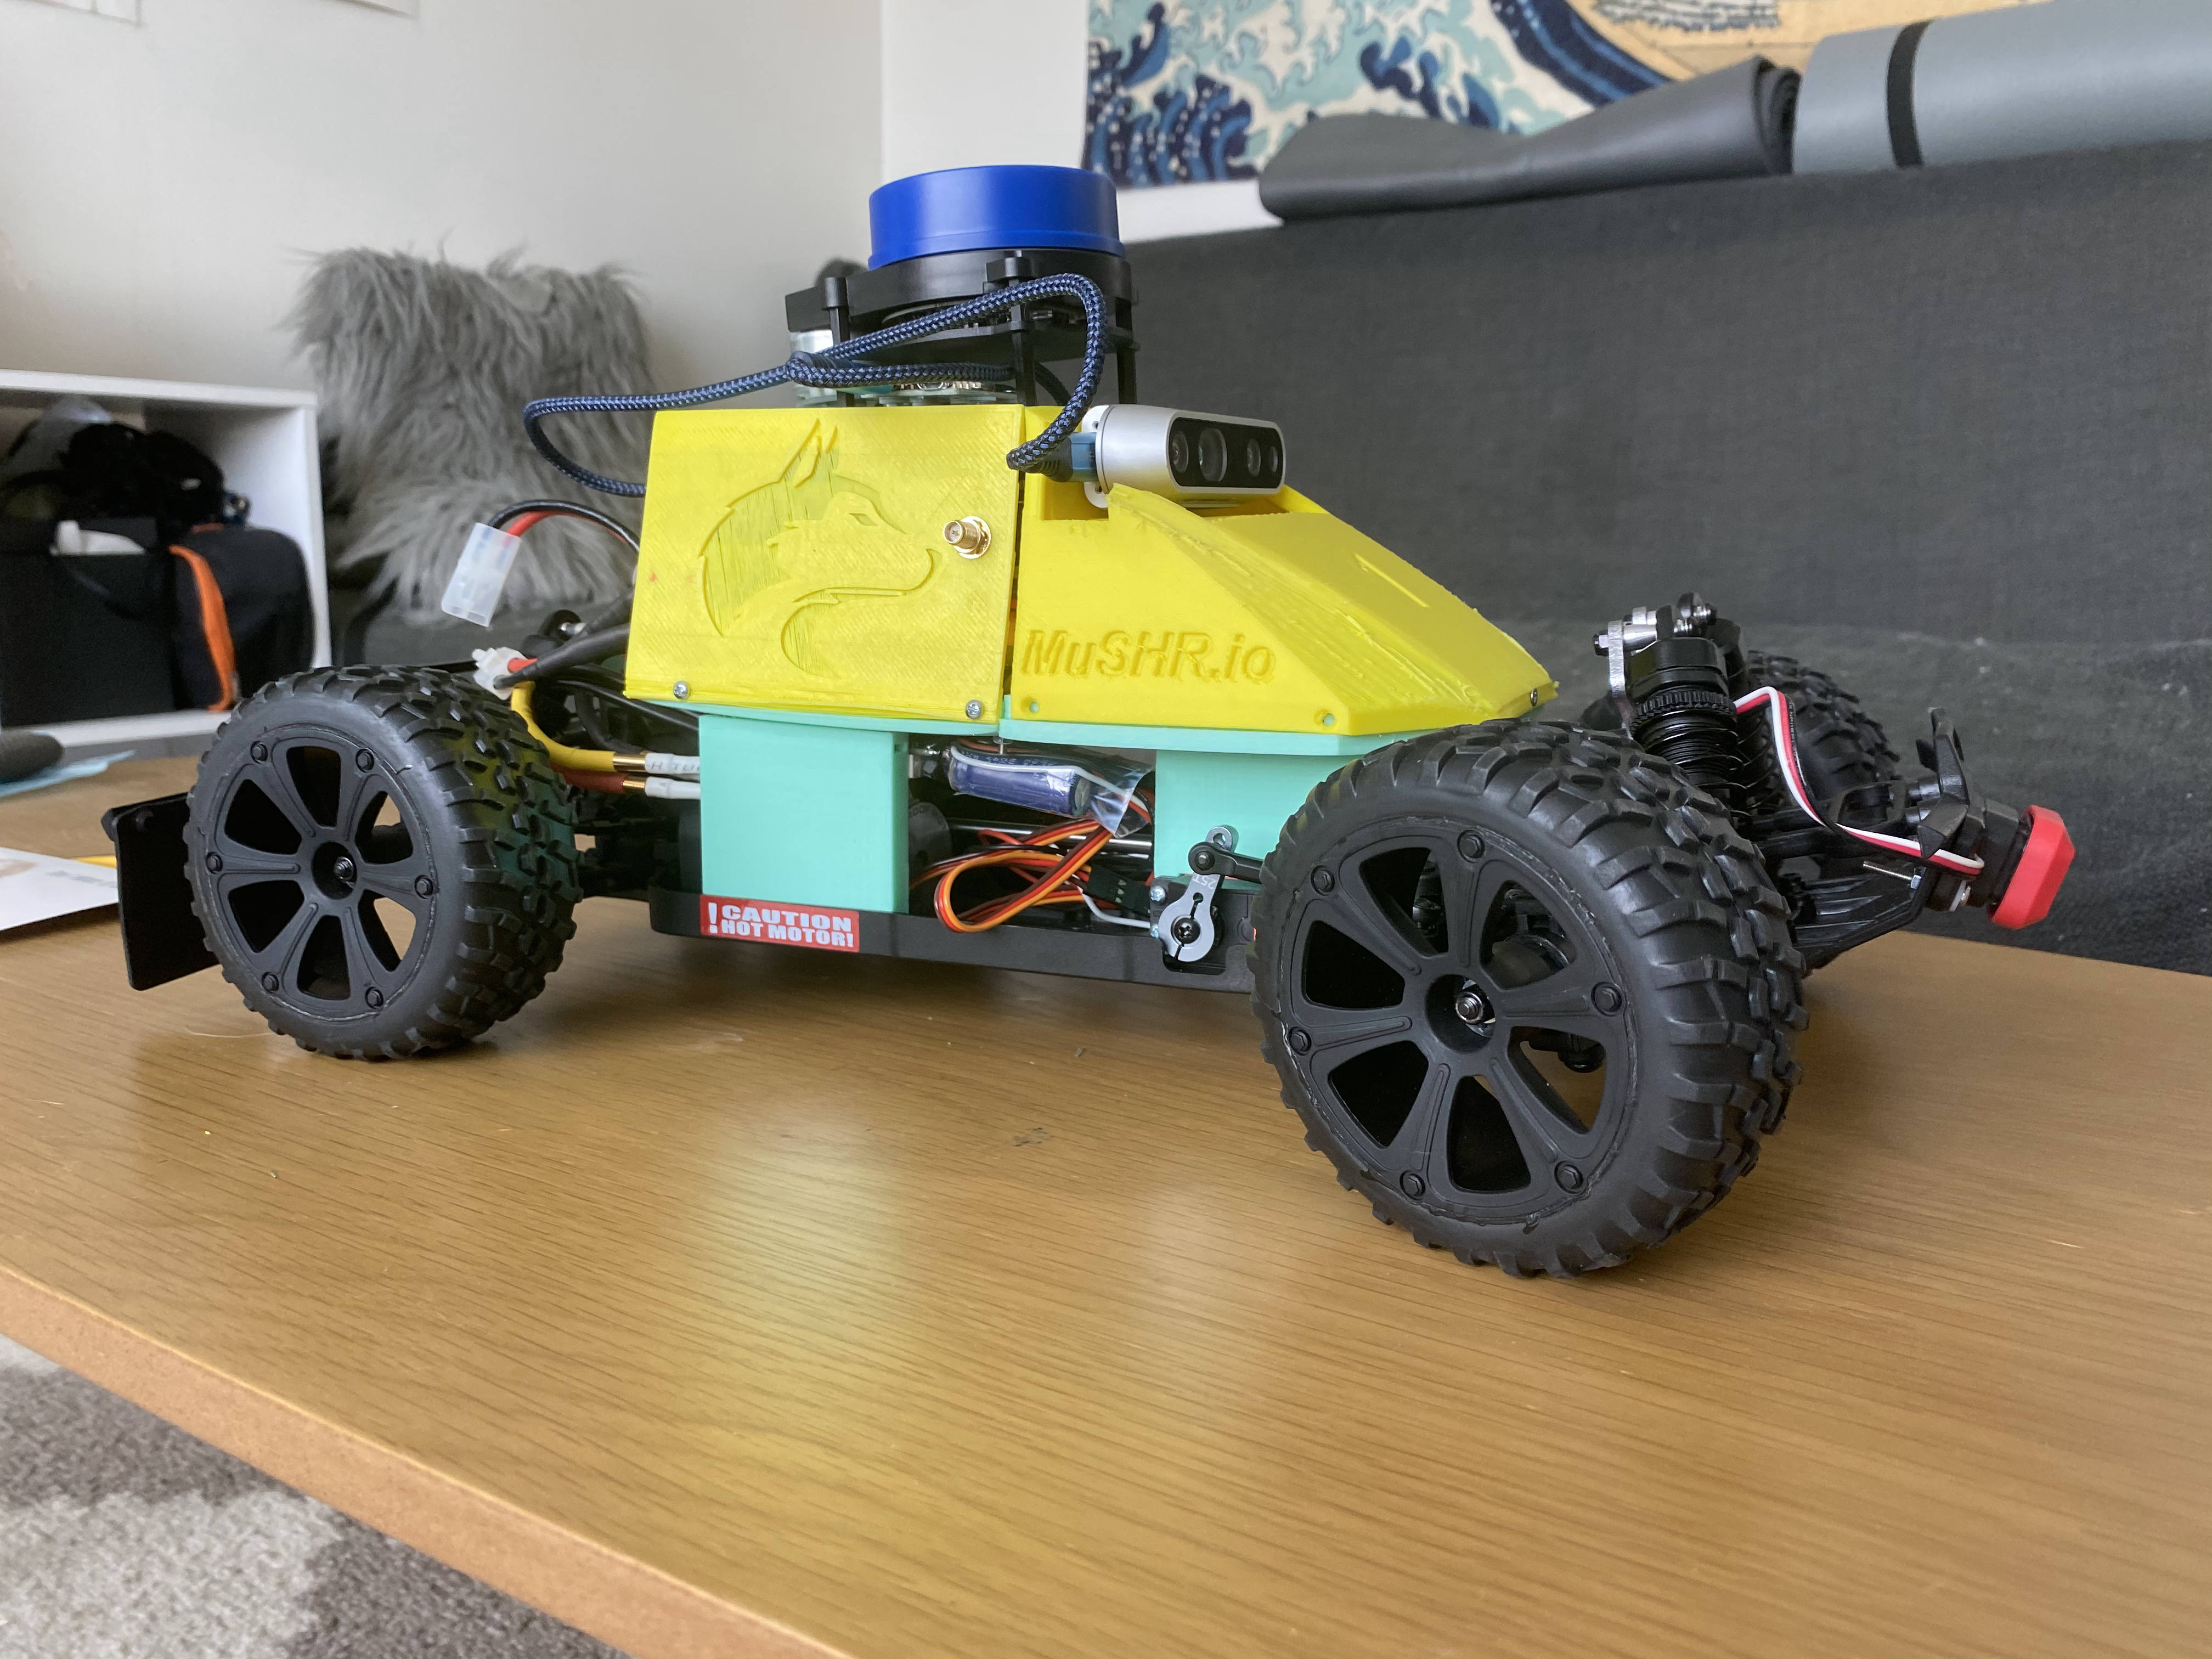mushr_car: (94, 160, 2080, 1295)
